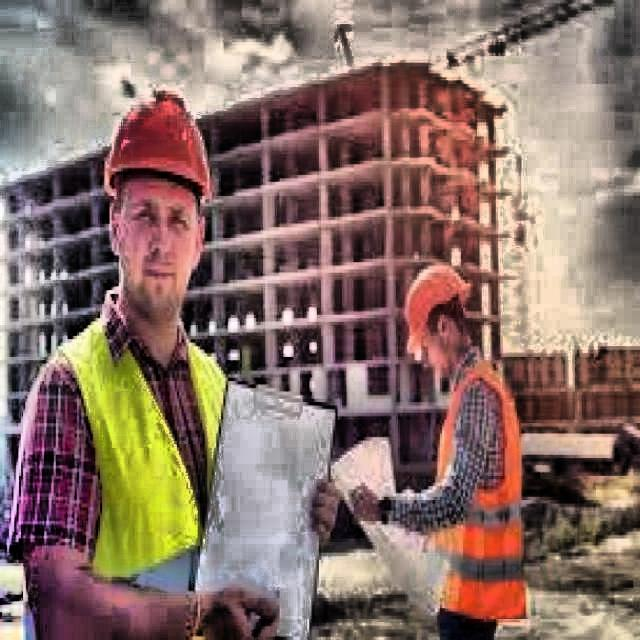bull_dozer/loader/grader: (328, 0, 612, 74)
person: (8, 87, 338, 638), (348, 261, 528, 640)
